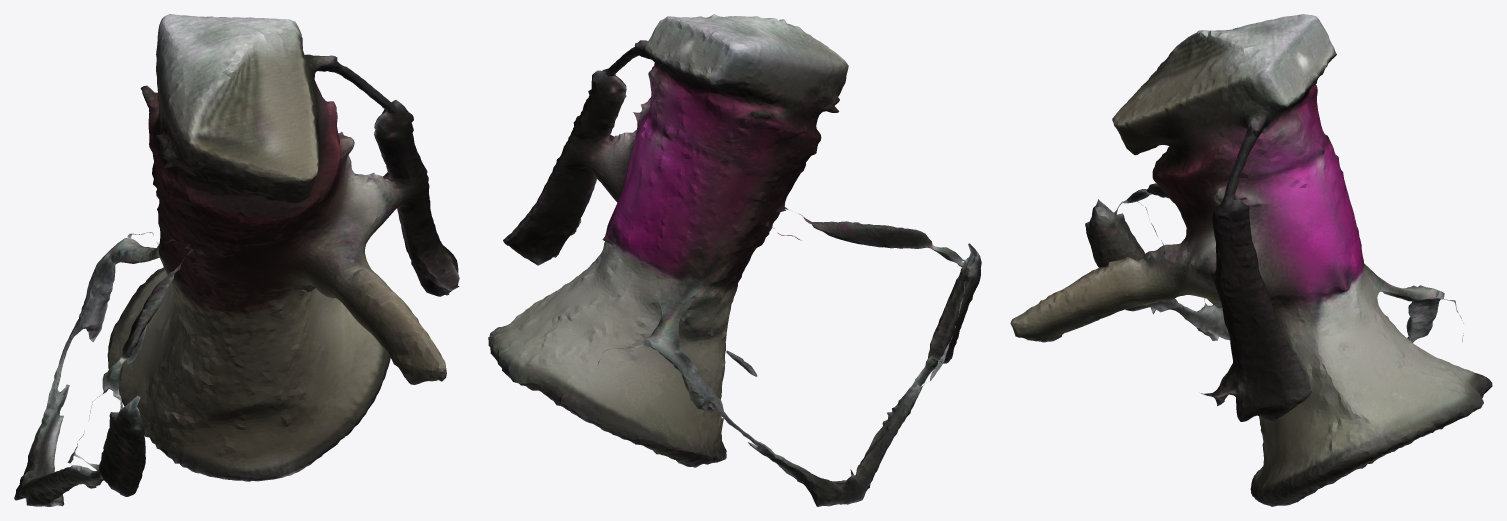
The model's file is IMG_SEG_33.glb.
The picture shows the model from 3 angles, left to right: view 1: azimuth 30°, elevation 25°; view 2: azimuth 150°, elevation 25°; view 3: azimuth 270°, elevation 25°; orthographic projection. The views are drawn at different scales.
Bounding box in the file's own units: 1.02 × 1.06 × 1.05.
Materials: 1 (1 with a texture image).
